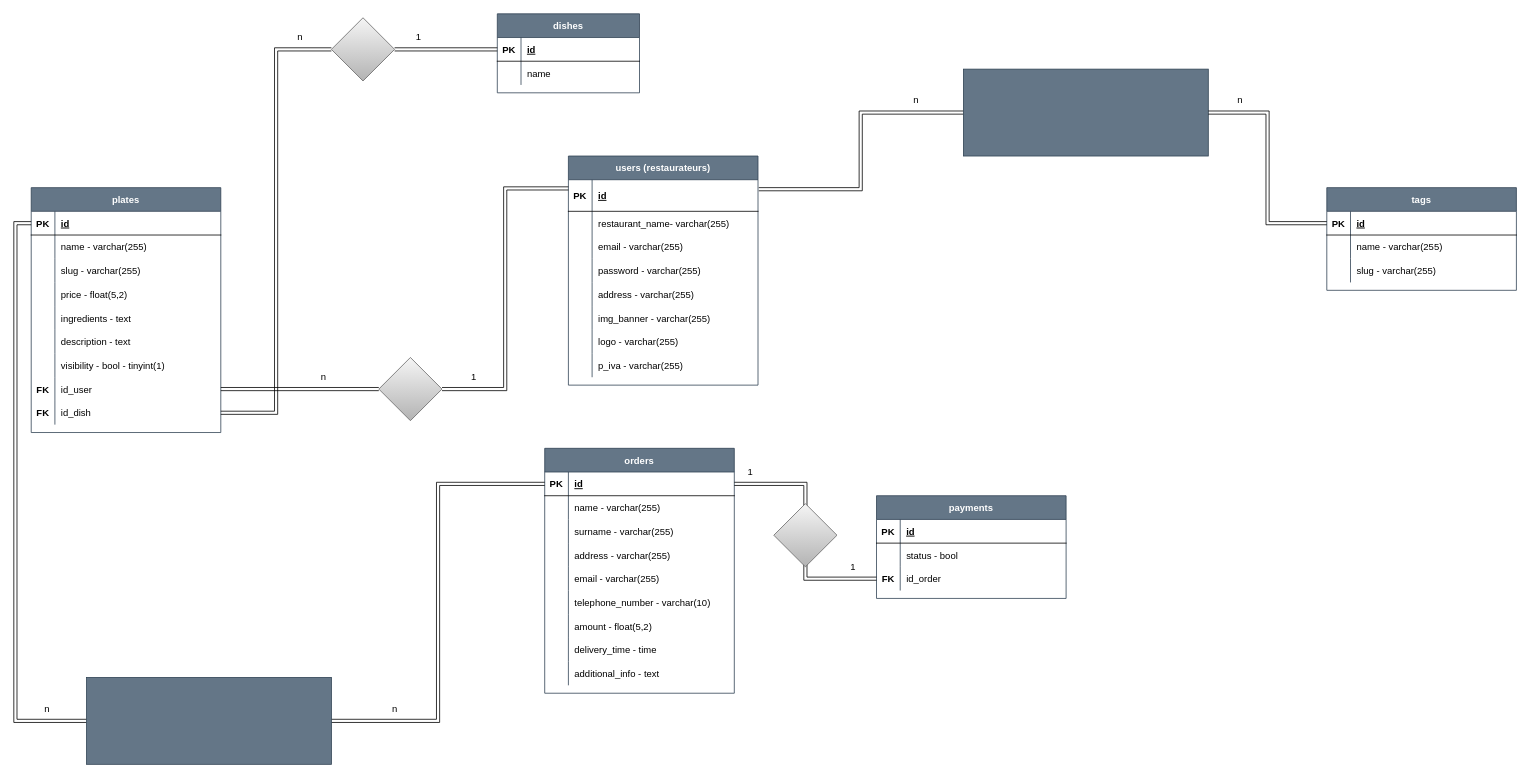
The diagram is 1530 pixels wide and 778 high, and some of its shapes have lost their labels. The shapes that lost their labels are listed below. From the top down, each one's centre as x and y in pixels, then its label:
At point (1085, 112): "user_tag PK (id_user - id_tag)".
At point (208, 720): "plate_order PK (id_plate - id_order)".
